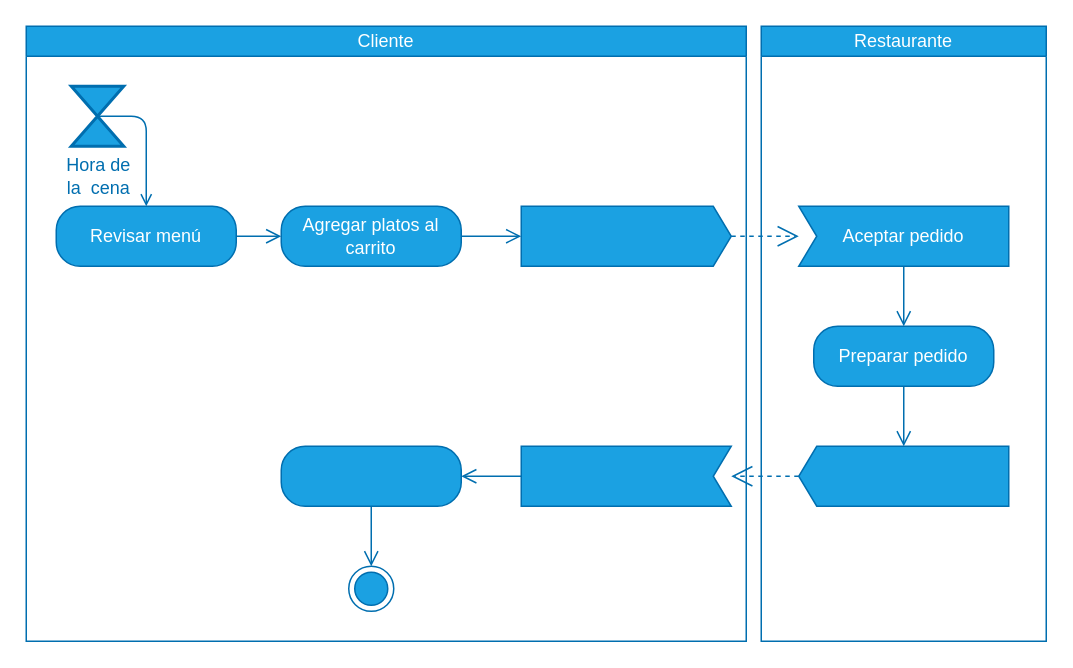
Some shapes in this 1073 by 668 pixel diagram are drawn without their labels. Each missing label, with the centre of its shape:
Cenar: the point at 370,475
Confirmar pedido: the point at 625,235
Enviar pedido: the point at 903,475
Recibir pedido: the point at 625,475
